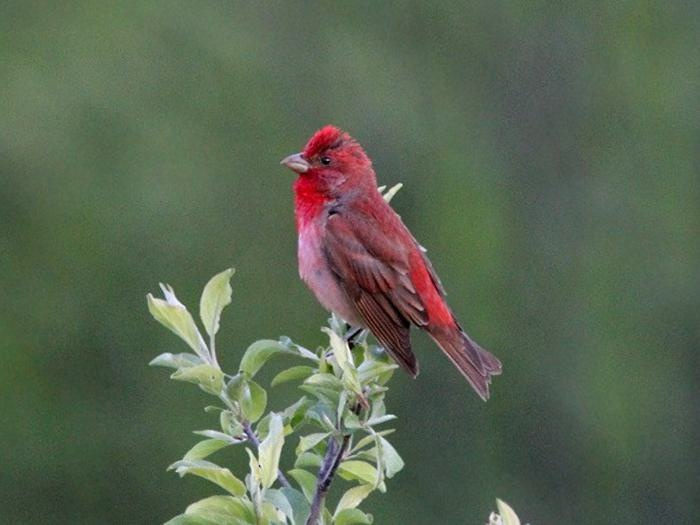rosefinch: (281, 112, 505, 401)
